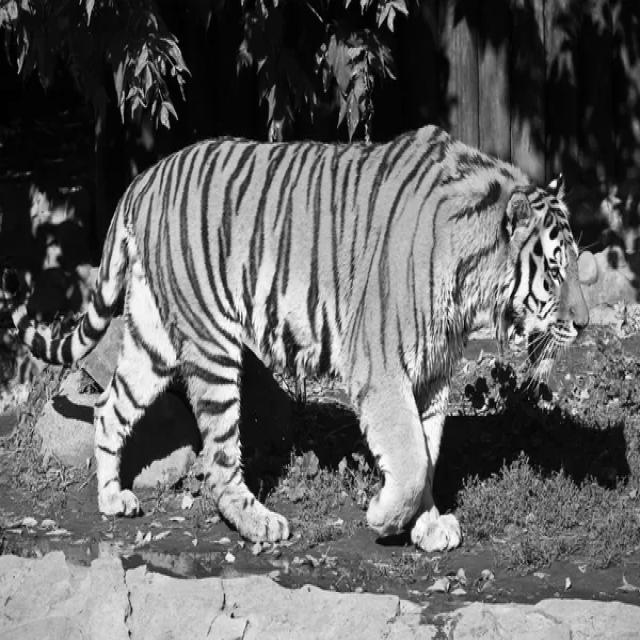Animal: (3, 125, 589, 551)
